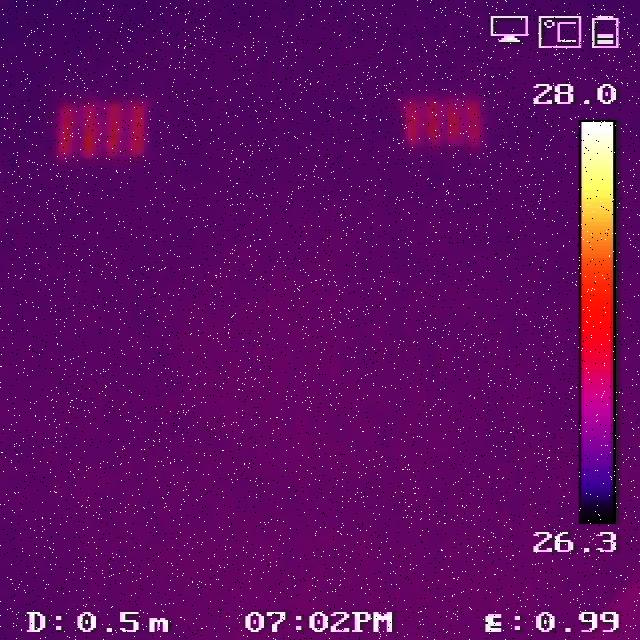threshold 4-bar target: (54, 96, 154, 160), (403, 88, 484, 146)
